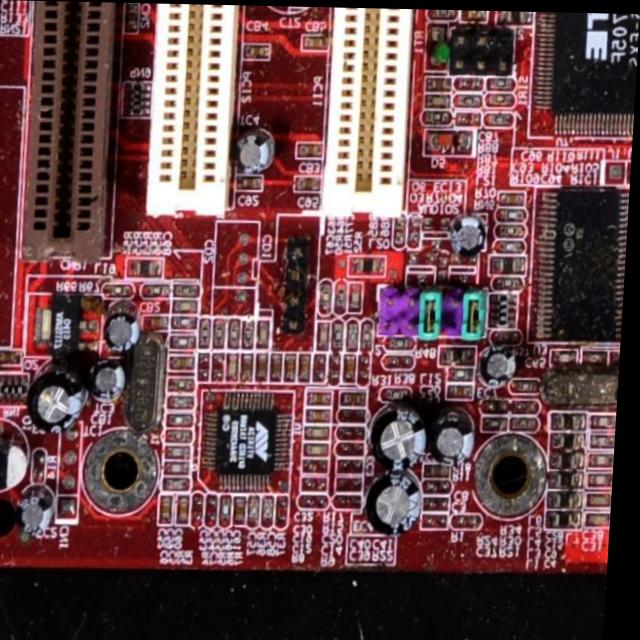IC: (529, 180, 632, 353), (539, 10, 640, 136), (202, 383, 300, 495)
capacitor: (236, 172, 269, 191), (271, 351, 290, 382), (315, 351, 334, 382), (146, 313, 174, 334), (285, 350, 303, 382), (258, 318, 276, 350), (163, 495, 181, 526), (590, 468, 619, 487), (180, 495, 197, 527), (318, 318, 334, 352), (590, 508, 617, 528), (241, 41, 271, 59), (300, 351, 316, 384), (346, 350, 362, 382), (175, 281, 205, 298), (173, 353, 201, 371), (352, 281, 368, 312), (257, 353, 274, 382), (296, 142, 325, 159), (428, 510, 455, 528), (428, 462, 458, 478), (213, 353, 230, 381), (344, 457, 370, 475), (427, 496, 456, 512), (304, 476, 334, 491), (306, 457, 336, 472), (590, 490, 618, 506), (593, 410, 621, 426), (309, 389, 338, 404), (593, 450, 620, 466), (308, 441, 335, 457), (340, 476, 370, 490), (245, 352, 260, 380), (593, 432, 620, 447), (309, 425, 336, 440), (176, 297, 203, 312), (297, 175, 324, 190), (230, 352, 244, 380), (240, 497, 253, 526), (202, 354, 215, 383), (302, 33, 328, 47), (454, 381, 478, 396), (310, 408, 337, 420)
resistor: (249, 495, 270, 531), (423, 476, 462, 494), (301, 494, 337, 513), (335, 281, 353, 316), (143, 281, 175, 300), (360, 349, 377, 384), (348, 317, 365, 352), (331, 348, 346, 387), (333, 317, 350, 351), (168, 427, 200, 445), (382, 385, 415, 402), (224, 494, 239, 529), (266, 494, 281, 529), (455, 516, 492, 530), (340, 439, 372, 455), (106, 283, 138, 299), (166, 475, 196, 492), (202, 318, 217, 351), (173, 376, 202, 393), (209, 495, 225, 525), (283, 495, 297, 529), (384, 355, 418, 369), (173, 333, 201, 350), (321, 280, 335, 314), (169, 444, 198, 460), (170, 394, 199, 410), (213, 322, 229, 351), (244, 322, 260, 351), (174, 313, 203, 329), (339, 493, 366, 510), (169, 413, 199, 428), (232, 319, 247, 349), (198, 492, 210, 529), (169, 458, 198, 473), (343, 421, 372, 436), (365, 318, 378, 350)
